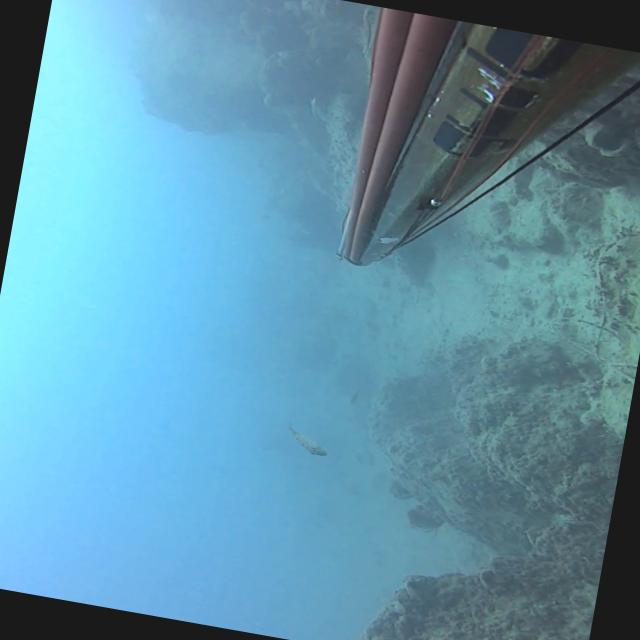Balon Baligi: (283, 422, 331, 456), (306, 95, 330, 122), (349, 387, 362, 404)
